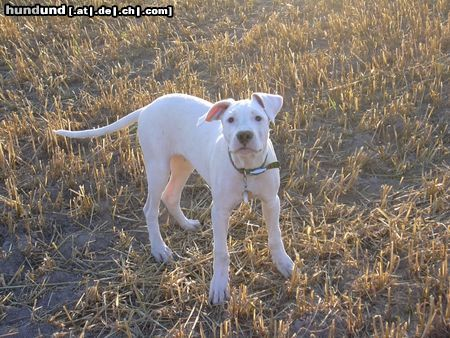dogo_argentino: (52, 91, 295, 307)
